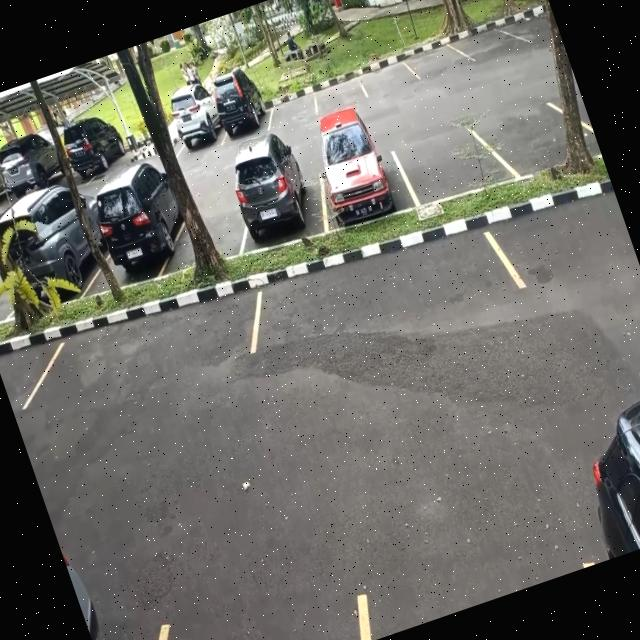empty: (243, 202, 520, 374), (22, 272, 266, 422), (483, 83, 600, 182), (395, 118, 506, 210), (451, 10, 518, 66), (354, 48, 416, 98), (308, 65, 368, 114), (404, 31, 462, 80), (262, 79, 318, 129)
occupied: (84, 159, 194, 289), (304, 114, 418, 234), (220, 140, 333, 257), (158, 75, 227, 159), (206, 74, 274, 145)
